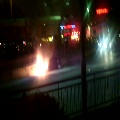fire: (29, 53, 48, 76)
